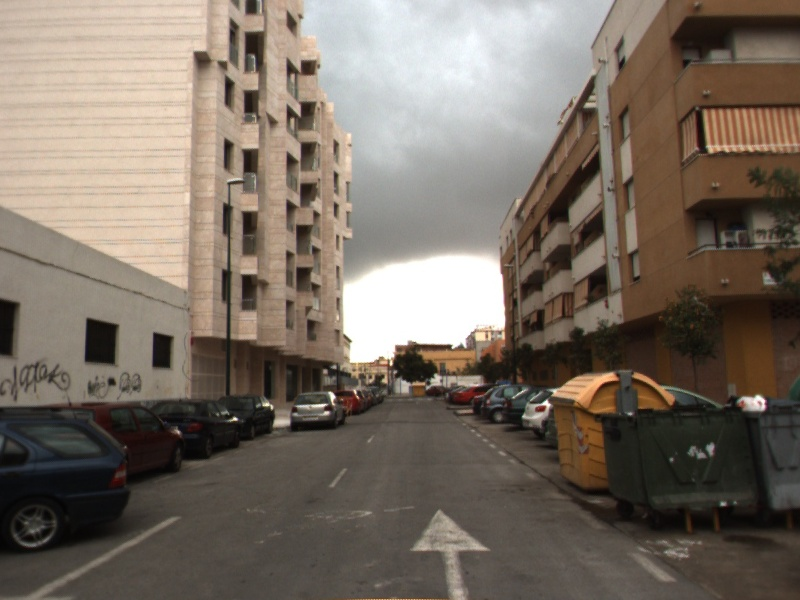STRAIGHT: (407, 505, 495, 600)
